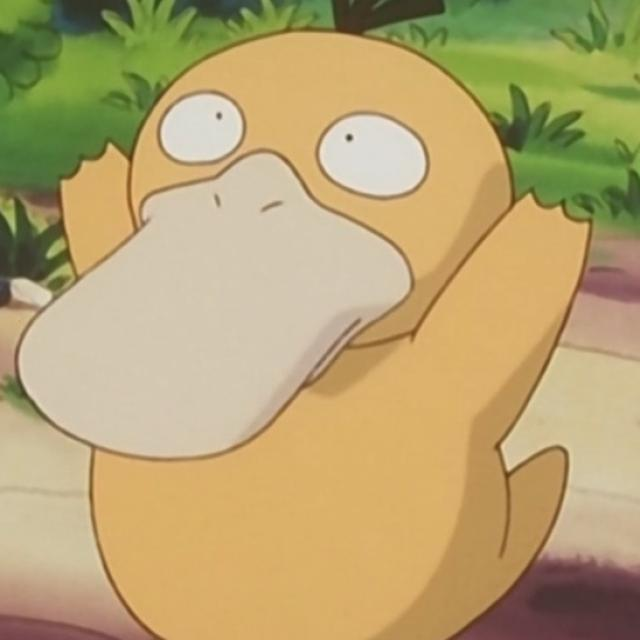Psyduck: (55, 32, 528, 632)
